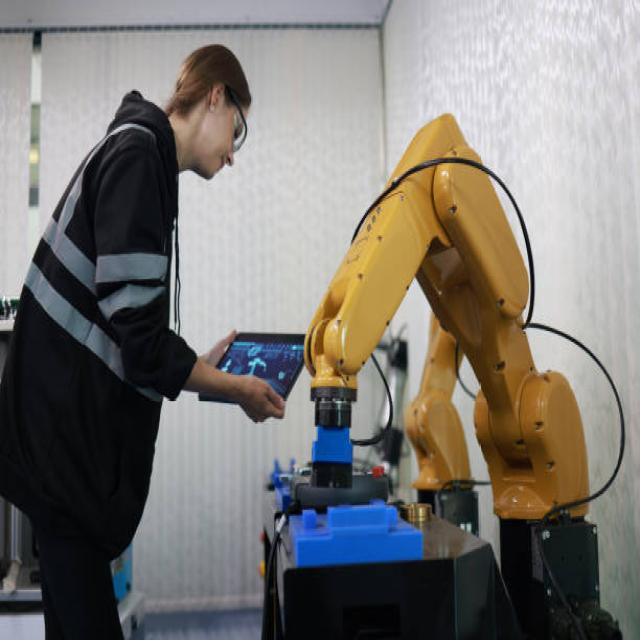Robotic-arm: (300, 101, 619, 548)
